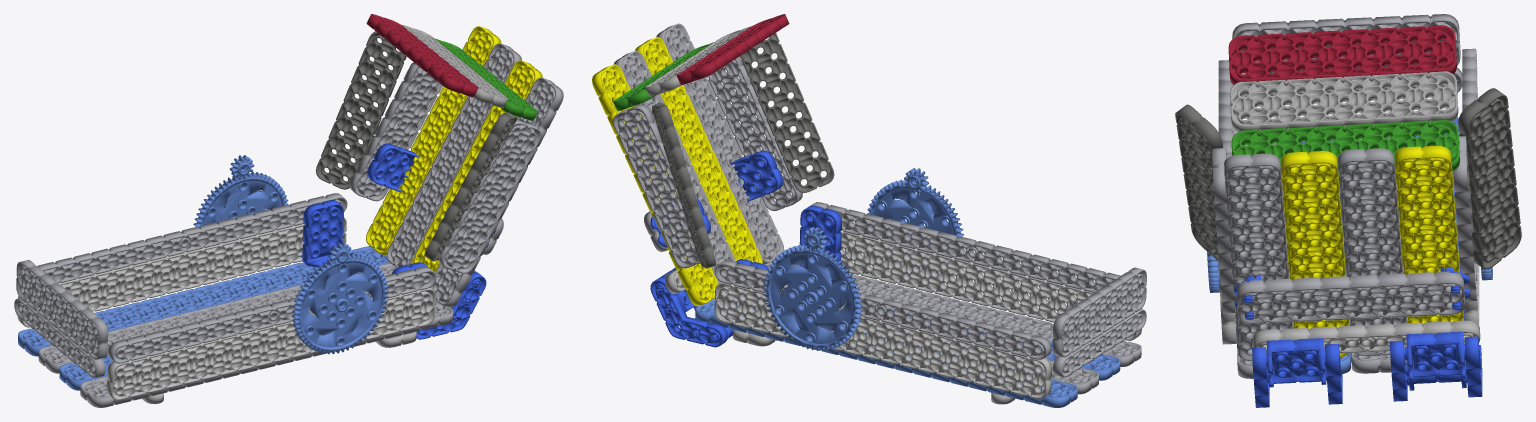
Rendered from Tray V3.glb.
3 renders of one model, left to right at view 1: azimuth 30°, elevation 25°; view 2: azimuth 150°, elevation 25°; view 3: azimuth 270°, elevation 25°, orthographic. The views are drawn at different scales.
Visible parts, largest first — view 1: 00031_228-2500-029.dat, 00026_228-2500-029.dat, 00032_228-2500-215.dat, 00027_228-2500-015.dat, 00007_228-2500-023.dat.002, 00002_228-2500-026.dat, 00017_228-2500-030.dat, 00028_228-2500-015.dat, 00007_228-2500-023.dat, 00001_228-2500-026.dat, 00006_228-2500-023.dat, 00029_228-2500-023.dat (+14 smaller); view 2: 00026_228-2500-029.dat, 00031_228-2500-029.dat, 00033_228-2500-215.dat, 00028_228-2500-015.dat, 00007_228-2500-023.dat.001, 00027_228-2500-015.dat, 00003_228-2500-026.dat, 00006_228-2500-023.dat, 00004_228-2500-026.dat, 00007_228-2500-023.dat, 00029_228-2500-023.dat, 00023_228-2500-030.dat (+14 smaller); view 3: 00006_228-2500-023.dat.002, 00006_228-2500-023.dat.003, 00005_228-2500-023.dat, 00004_228-2500-026.dat, 00007_228-2500-023.dat.002, 00002_228-2500-026.dat, 00003_228-2500-026.dat, 00001_228-2500-026.dat, 00006_228-2500-023.dat.001, 00007_228-2500-023.dat.001, 00010_228-2500-007-v2.dat, 00029_228-2500-023.dat (+17 smaller).
Part boxes in pixels (x1,y1,x2,y2): 00031_228-2500-029.dat: (106, 287, 435, 400); 00026_228-2500-029.dat: (17, 217, 346, 327); 00032_228-2500-215.dat: (292, 254, 388, 354); 00027_228-2500-015.dat: (38, 193, 347, 282); 00007_228-2500-023.dat.002: (316, 31, 406, 189); 00002_228-2500-026.dat: (386, 43, 521, 267); 00017_228-2500-030.dat: (18, 246, 390, 356); 00028_228-2500-015.dat: (107, 266, 436, 363); 00007_228-2500-023.dat: (438, 119, 541, 273); 00001_228-2500-026.dat: (366, 26, 501, 255); 00006_228-2500-023.dat: (349, 62, 442, 201); 00029_228-2500-023.dat: (16, 260, 108, 359); 00026_228-2500-029.dat: (714, 282, 1052, 398); 00031_228-2500-029.dat: (820, 227, 1142, 340); 00033_228-2500-215.dat: (763, 244, 862, 350); 00028_228-2500-015.dat: (809, 202, 1120, 292); 00007_228-2500-023.dat.001: (740, 33, 834, 192); 00027_228-2500-015.dat: (714, 260, 1051, 359); 00003_228-2500-026.dat: (635, 37, 762, 263); 00006_228-2500-023.dat: (613, 104, 713, 268); 00004_228-2500-026.dat: (656, 23, 784, 264); 00007_228-2500-023.dat: (707, 56, 802, 210); 00029_228-2500-023.dat: (1052, 267, 1146, 357); 00023_228-2500-030.dat: (765, 262, 1141, 366); 00006_228-2500-023.dat.002: (1230, 71, 1458, 132); 00006_228-2500-023.dat.003: (1228, 25, 1456, 84); 00005_228-2500-023.dat: (1237, 271, 1465, 323); 00004_228-2500-026.dat: (1224, 153, 1293, 361); 00007_228-2500-023.dat.002: (1458, 88, 1521, 269); 00002_228-2500-026.dat: (1338, 148, 1406, 356); 00003_228-2500-026.dat: (1281, 151, 1349, 357); 00001_228-2500-026.dat: (1395, 145, 1463, 323); 00006_228-2500-023.dat.001: (1231, 120, 1459, 180); 00007_228-2500-023.dat.001: (1175, 104, 1222, 261); 00010_228-2500-007-v2.dat: (1253, 320, 1480, 353); 00029_228-2500-023.dat: (1232, 14, 1460, 74).
Bounding box in the file's own units: 0.9106 × 0.5039 × 0.4289.
